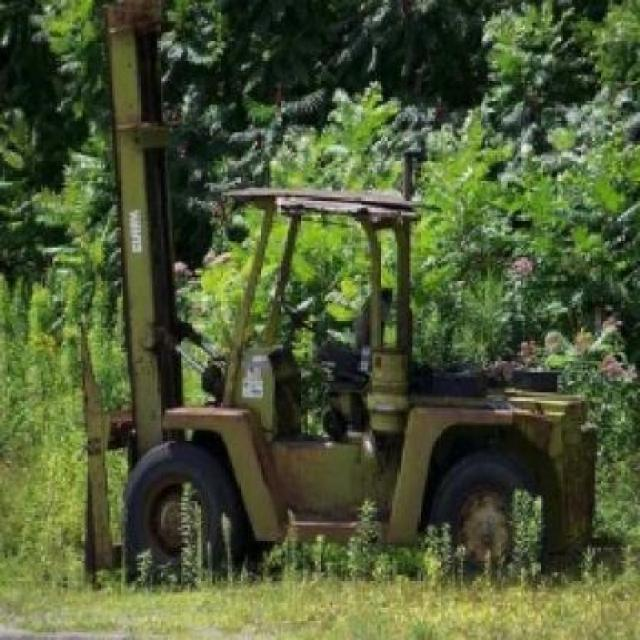forklift: (55, 3, 595, 583)
